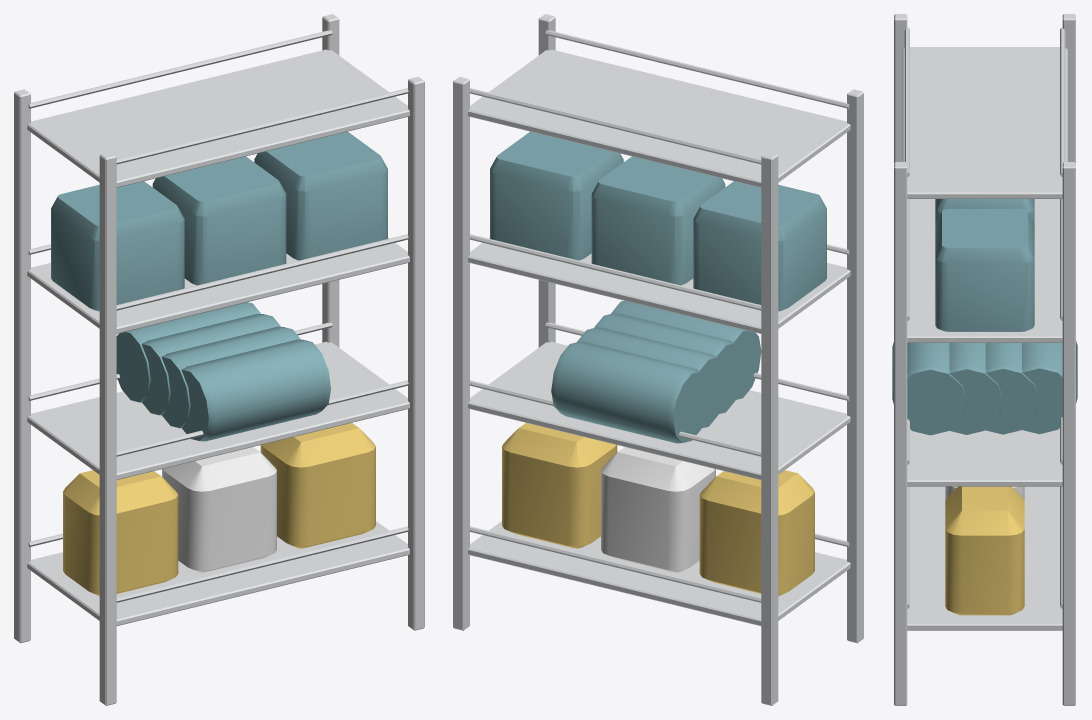
File: clinic-and-veterinary-practice-bedding-and-litter-stor-90dfa0e2__16818.glb
3 renders of one model, left to right at view 1: azimuth 30°, elevation 25°; view 2: azimuth 150°, elevation 25°; view 3: azimuth 270°, elevation 25°, orthographic.
Visible parts, largest first — view 1: bedding-and-litter-store; view 2: bedding-and-litter-store; view 3: bedding-and-litter-store.
Part boxes in pixels (left/top/right/bottom): bedding-and-litter-store: left=14, top=14, right=424, bottom=705; bedding-and-litter-store: left=453, top=14, right=863, bottom=705; bedding-and-litter-store: left=892, top=14, right=1077, bottom=705.
Bounding box in the file's own units: 1.1 × 1.8 × 0.56.
